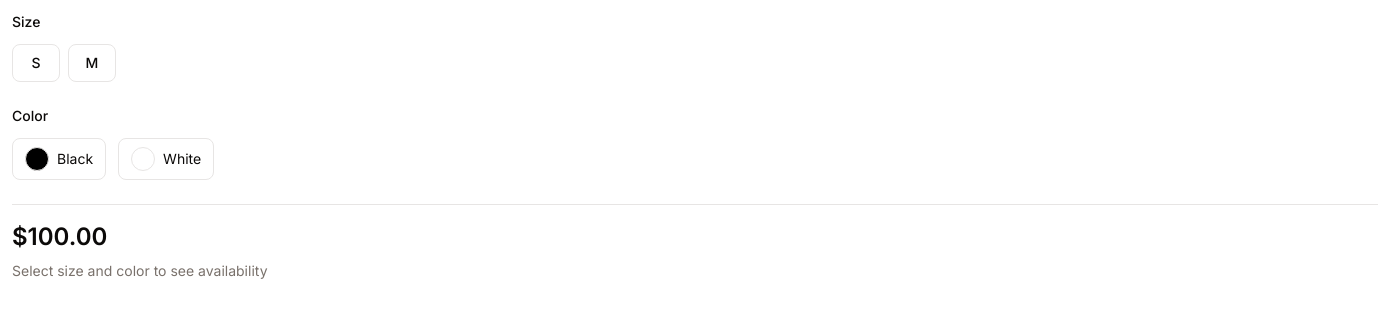
Test: VariantSelector › shows low stock warning when stock is 5 or less
This screenshot has width=1390, height=319.
Click the radio button labelled "M": (92, 63) [68, 44, 116, 82]
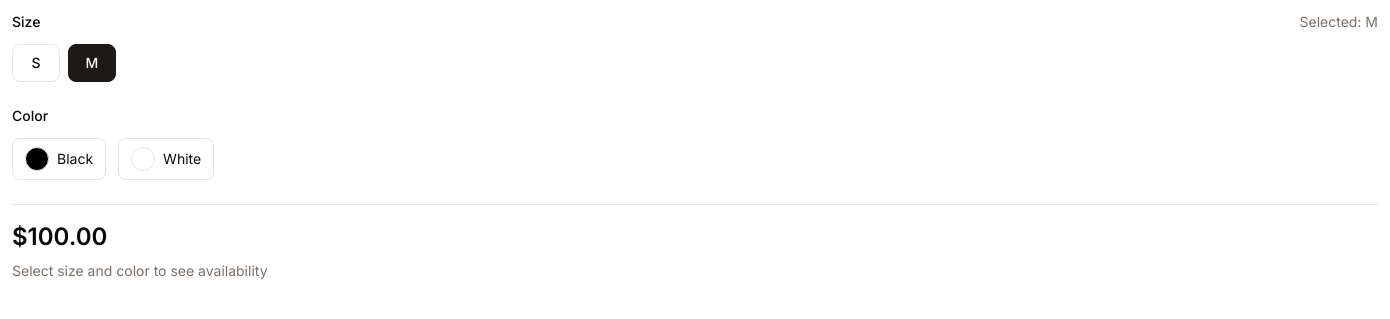
Click the radio button labelled "Black": (59, 159) [12, 138, 106, 180]
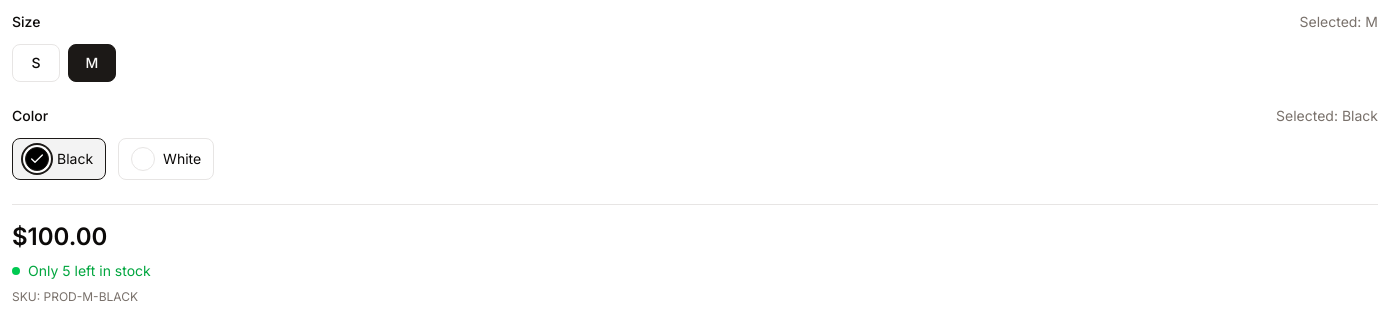
Result: the text "Only 5 left in stock" is shown at [28, 261, 151, 281]
